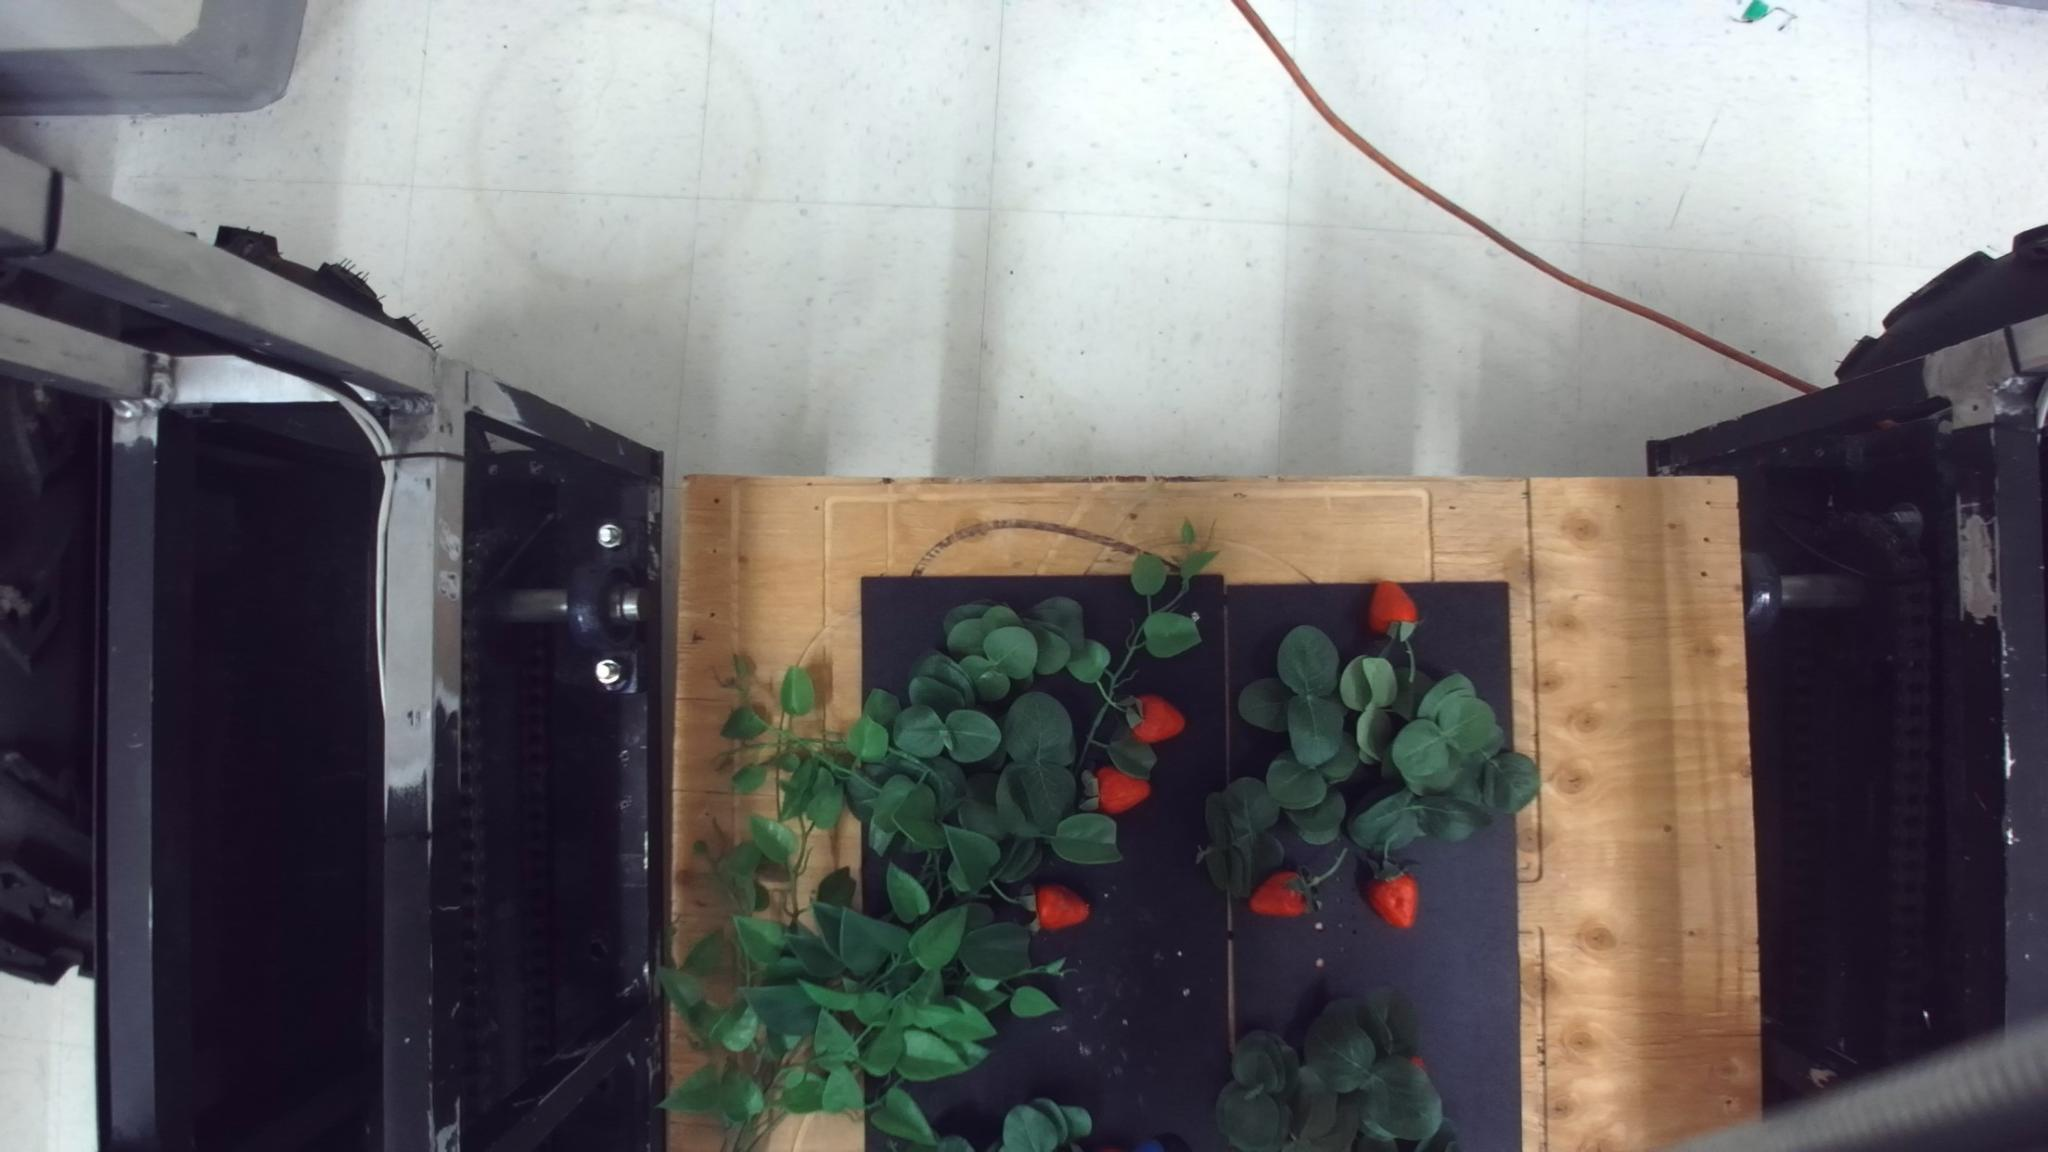strawberry: (1360, 855, 1418, 928), (1079, 765, 1151, 816), (1121, 692, 1184, 744), (1248, 868, 1312, 919), (1030, 882, 1090, 934), (1366, 580, 1418, 637)
